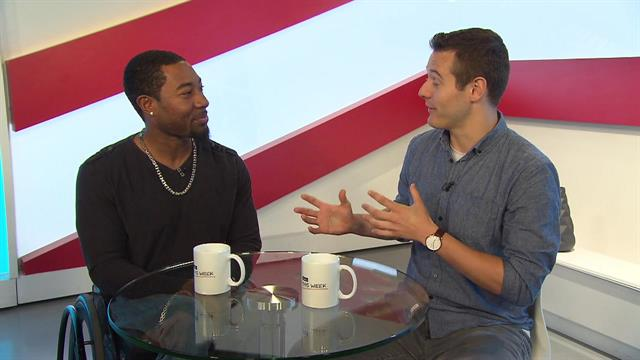Person: (292, 26, 565, 357), (71, 50, 266, 293)
